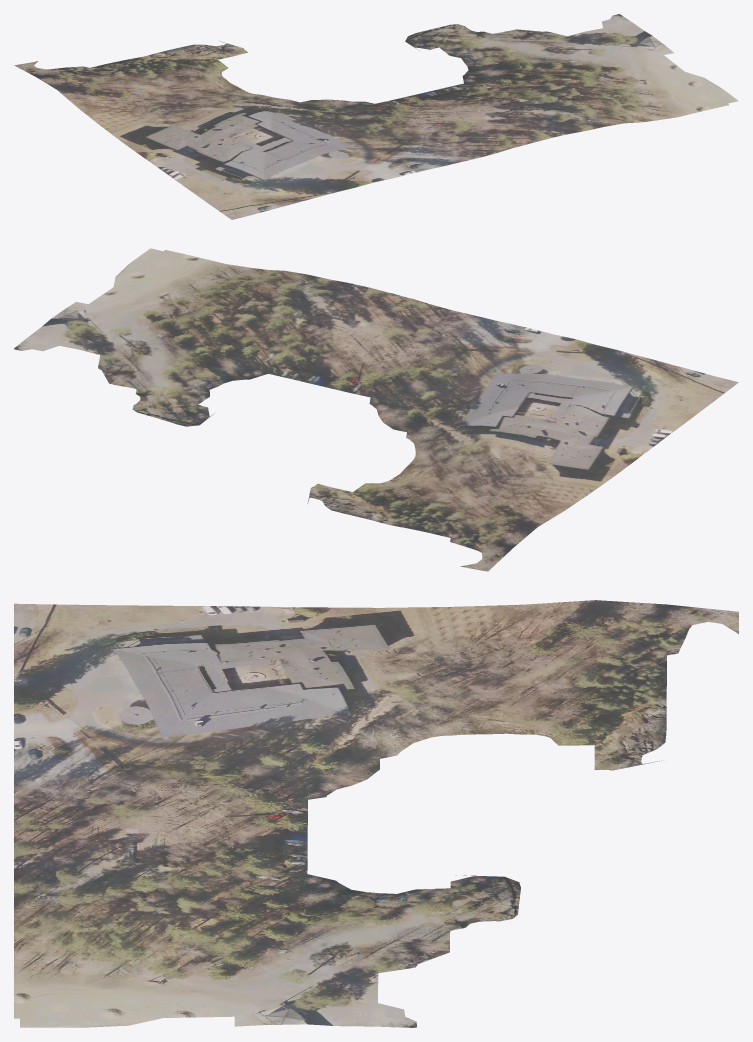
File: CM_Terrain_24488410_6822865.fbx
3 views of the same model, one above another, from view 1: azimuth 30°, elevation 25°; view 2: azimuth 150°, elevation 25°; view 3: azimuth 270°, elevation 25° (orthographic). The views are drawn at different scales.
Visible parts, largest first — view 1: CM_Terrain_24488410_6822865_LOD0; view 2: CM_Terrain_24488410_6822865_LOD0; view 3: CM_Terrain_24488410_6822865_LOD0.
Part boxes in pixels (<box>): CM_Terrain_24488410_6822865_LOD0: <box>14,14,738,219</box>; CM_Terrain_24488410_6822865_LOD0: <box>14,248,738,571</box>; CM_Terrain_24488410_6822865_LOD0: <box>14,600,738,1027</box>.
Size of what is drawn, in the model's own units: 205 by 5.57 by 152.
